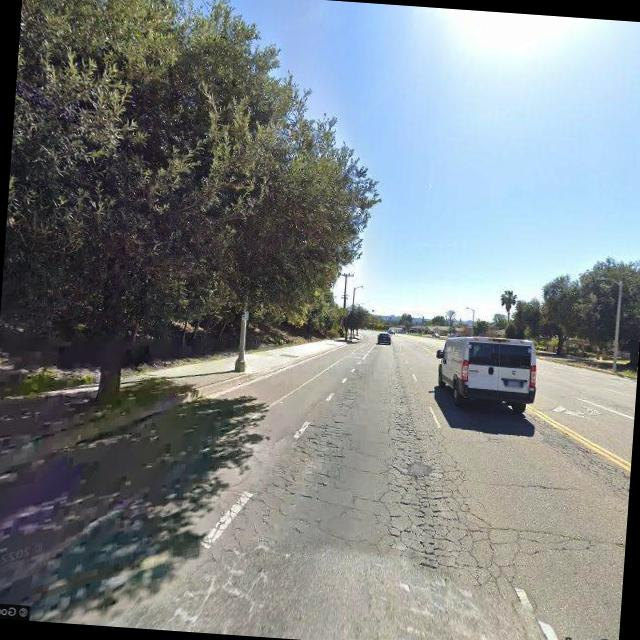crack: (52, 367, 360, 610), (369, 398, 621, 610), (540, 426, 632, 498)
